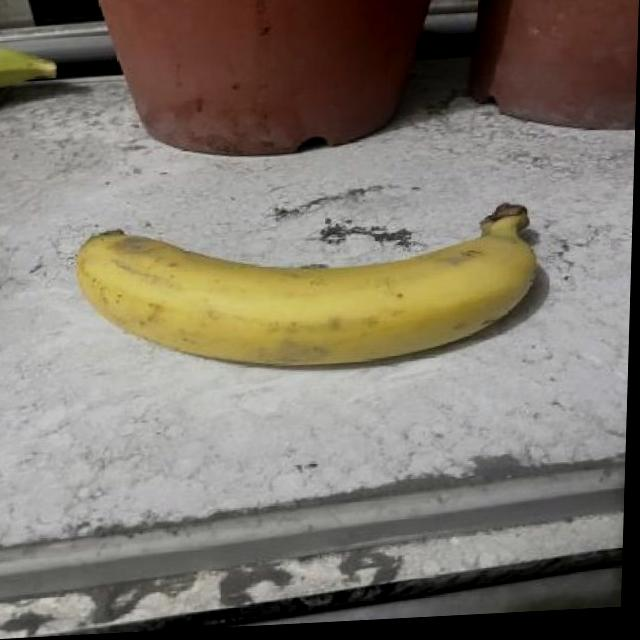banana: (75, 192, 553, 386)
